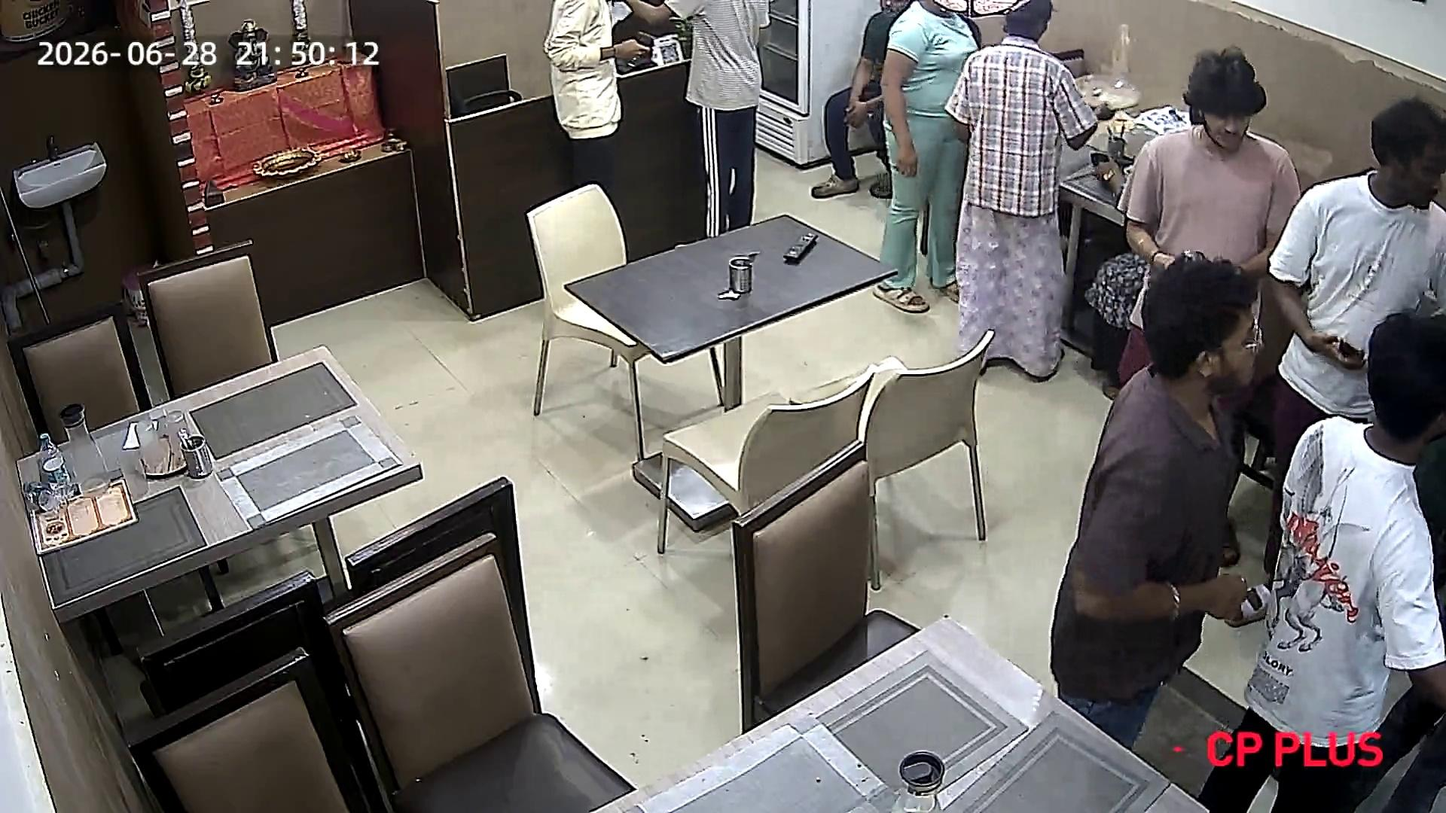clean: (613, 623, 1218, 813), (567, 210, 901, 361)
dirty: (11, 337, 421, 605)
